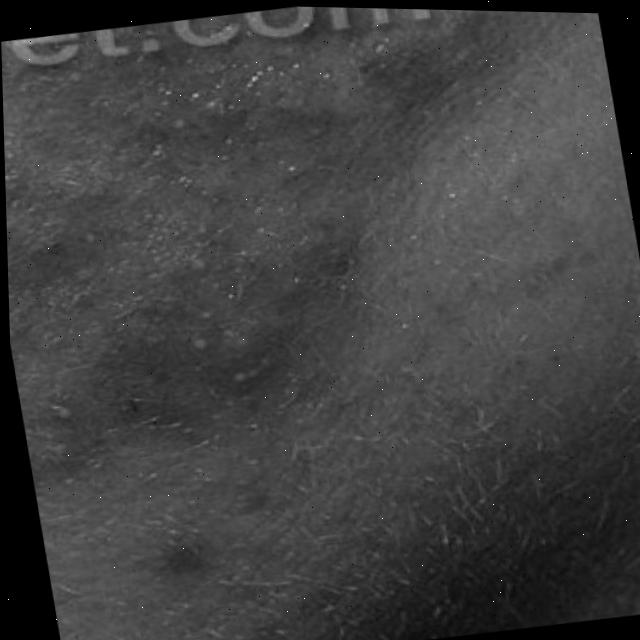Rosacea: (1, 33, 379, 494)
